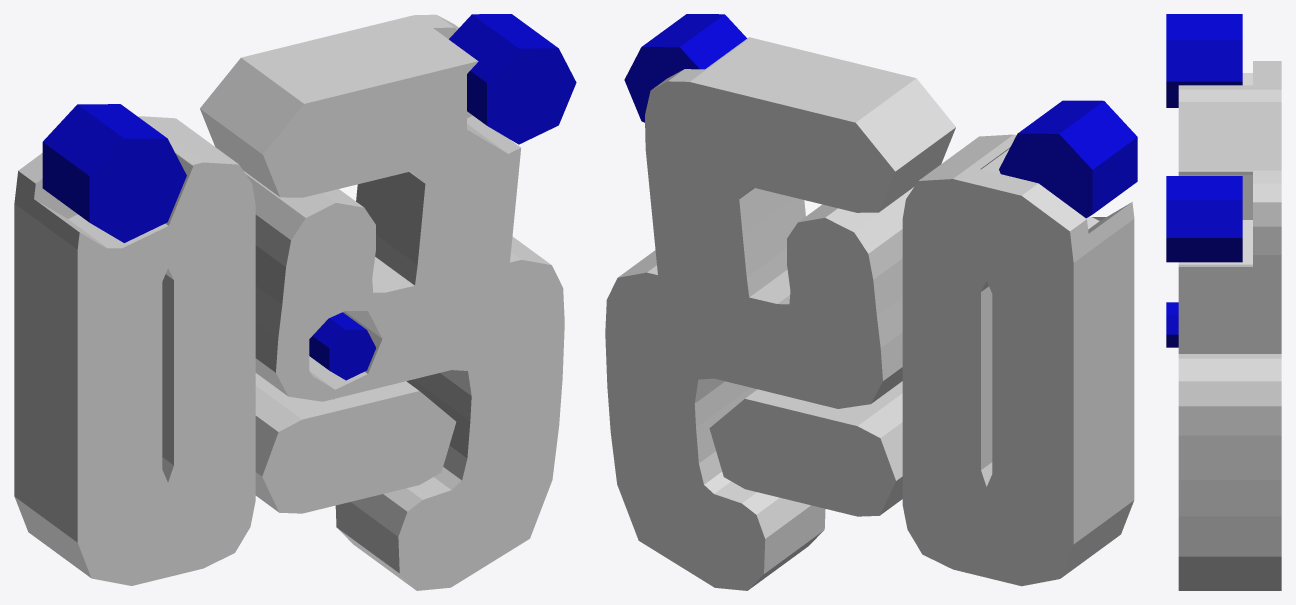
File: Ch_Lite_China_吗_01.fbx
The picture shows the model from 3 angles, left to right: view 1: azimuth 30°, elevation 25°; view 2: azimuth 150°, elevation 25°; view 3: azimuth 270°, elevation 25°; orthographic projection. The views are drawn at different scales.
Visible parts, largest first — view 1: sphere1; view 2: sphere1; view 3: sphere1.
Boxes of the visible parts, box(x1,y1,x2,y2) form: sphere1: box(14, 14, 576, 590); sphere1: box(605, 14, 1137, 590); sphere1: box(1166, 14, 1281, 590).
Bounding box in the file's own units: 0.8967 × 0.9352 × 0.2242.
